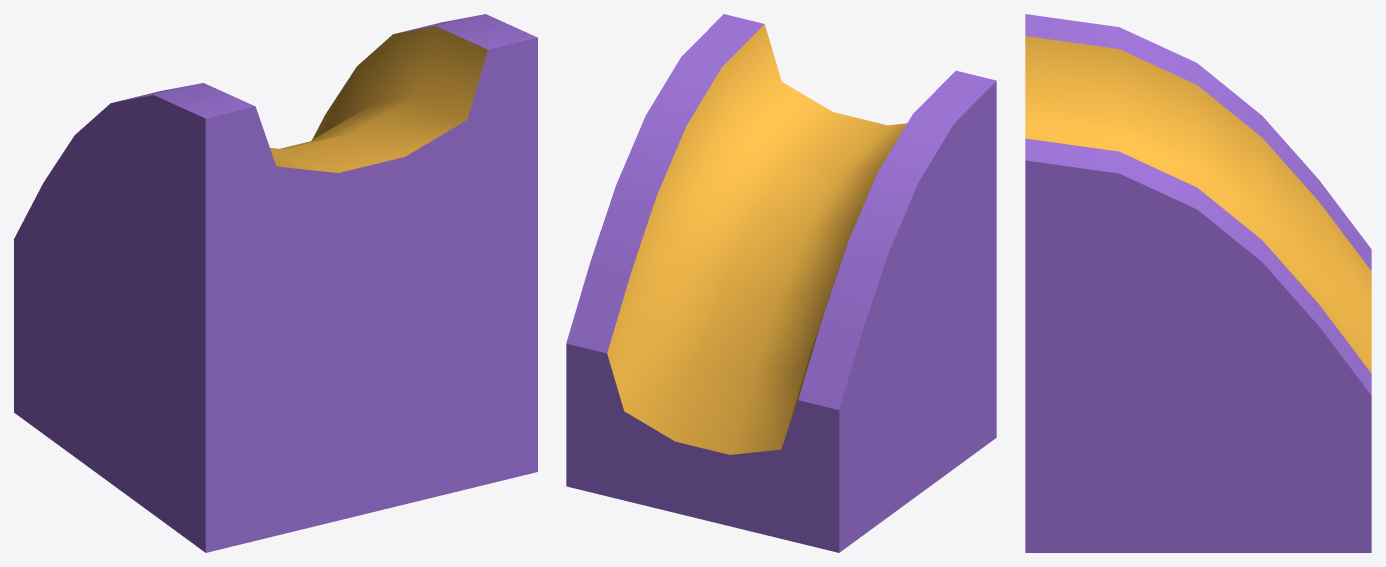
The model's file is kenney-marble-ramp-end-solid-d.glb.
3 renders of one model, left to right at view 1: azimuth 30°, elevation 25°; view 2: azimuth 150°, elevation 25°; view 3: azimuth 270°, elevation 25°, orthographic. The views are drawn at different scales.
Parts seen in each view (by area): view 1: ramp-end-solid-d; view 2: ramp-end-solid-d; view 3: ramp-end-solid-d.
Boxes of the visible parts, x1,y1,x2,y2 form: ramp-end-solid-d: (14,14,537,552); ramp-end-solid-d: (566,14,996,552); ramp-end-solid-d: (1025,14,1371,552).
Bounding box in the file's own units: 1 × 1.25 × 1.
1 material, 1 textured.
